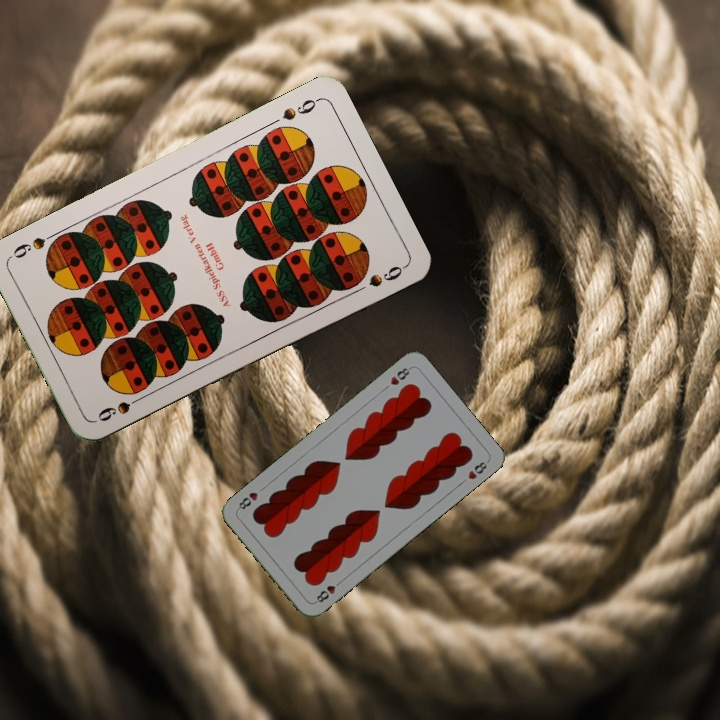H8: (311, 576, 345, 606), (386, 363, 414, 388)
S9: (93, 391, 148, 424), (278, 94, 322, 123)
